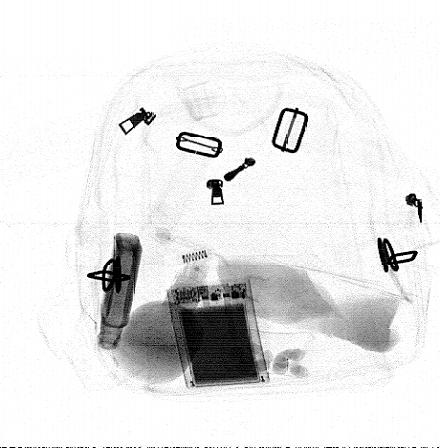Powerbank: (167, 280, 271, 388)
